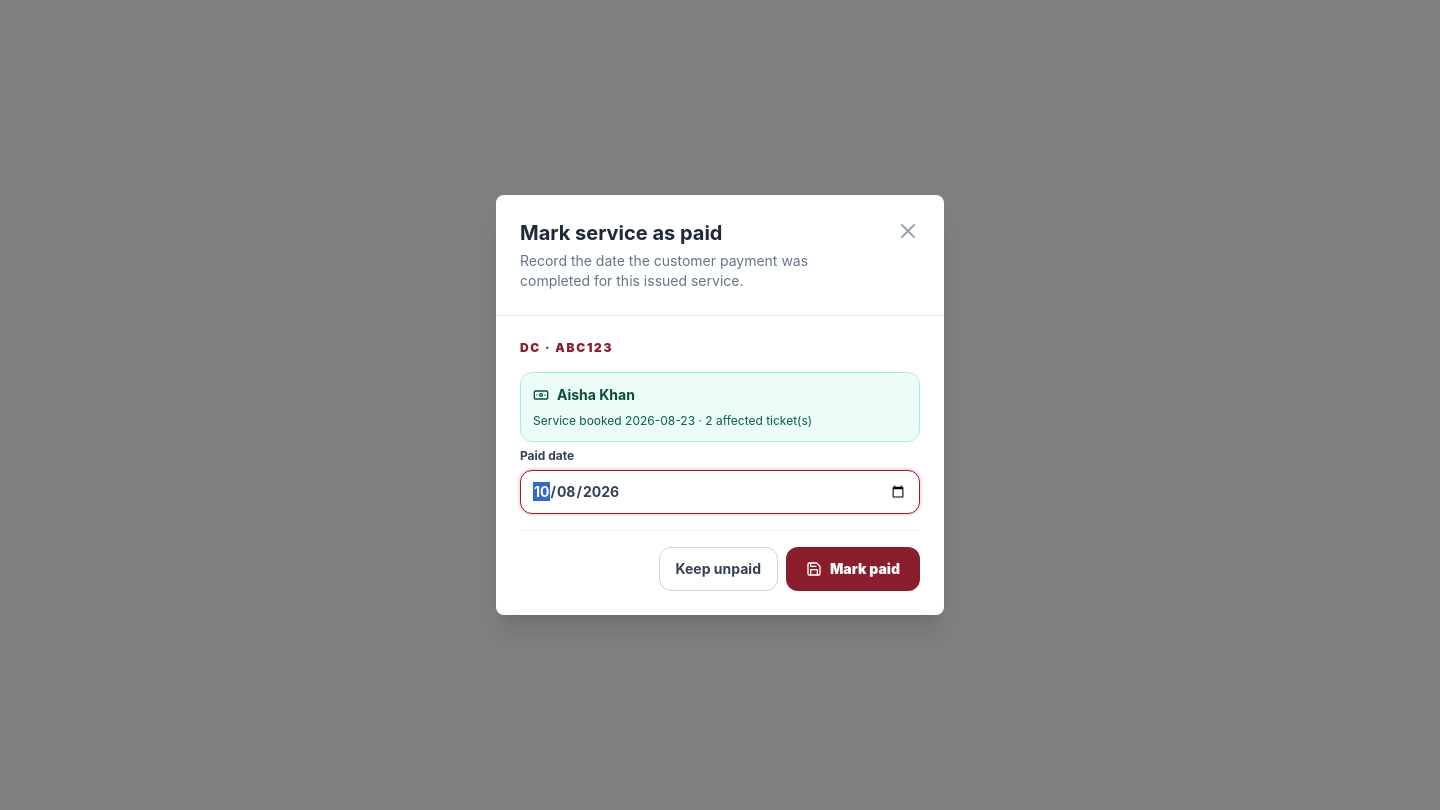
Test: TicketServicePaymentDialog › rejects payment before the service booking date without a request
Type "2026-08-22" into the date field named "Paid date for service" at (720, 492), box 520,470 -> 920,514
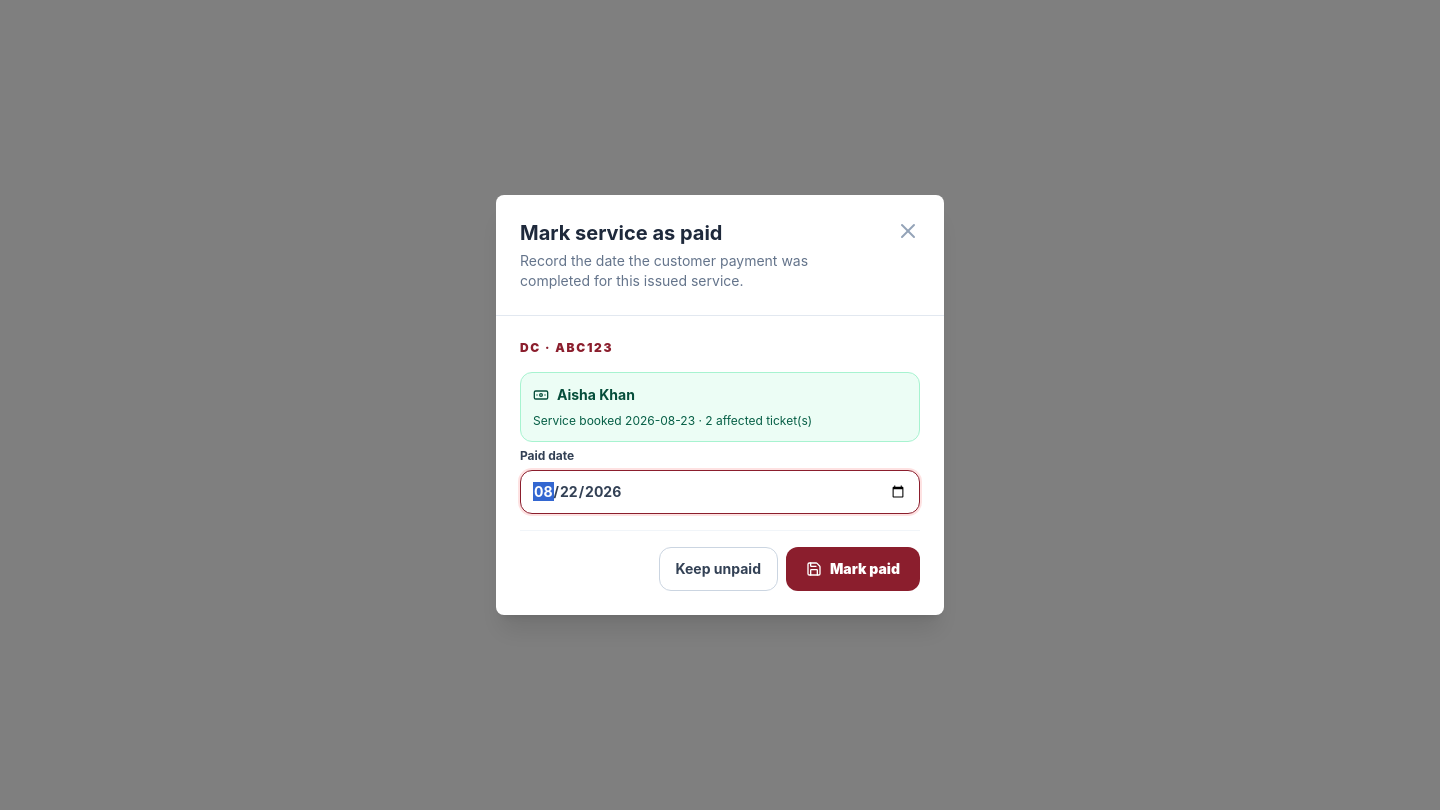
Click the button "Mark paid" at (853, 569), box 786,547 -> 920,591
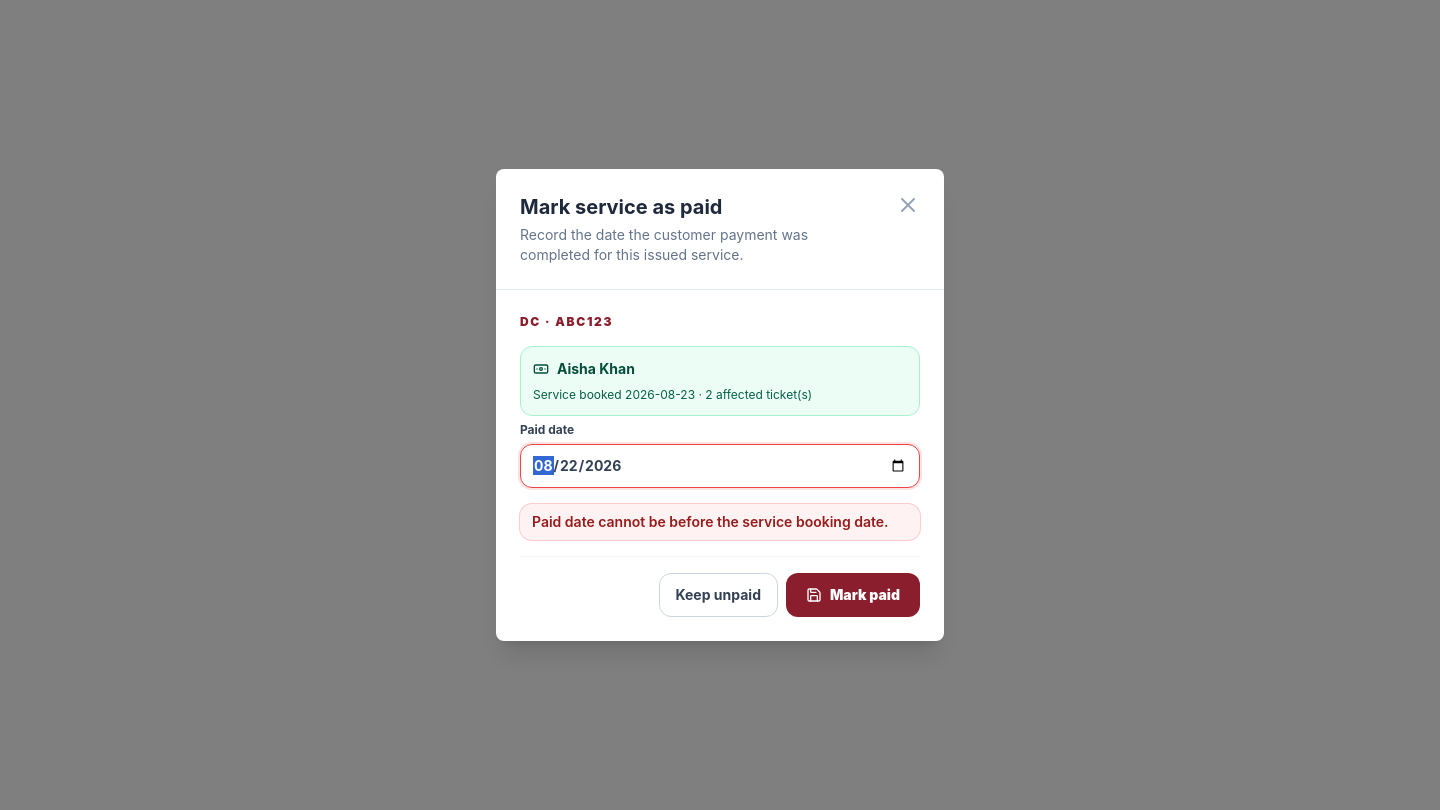
Expected: the text "Paid date cannot be before the service booking date." is shown, 520,504 -> 920,540
